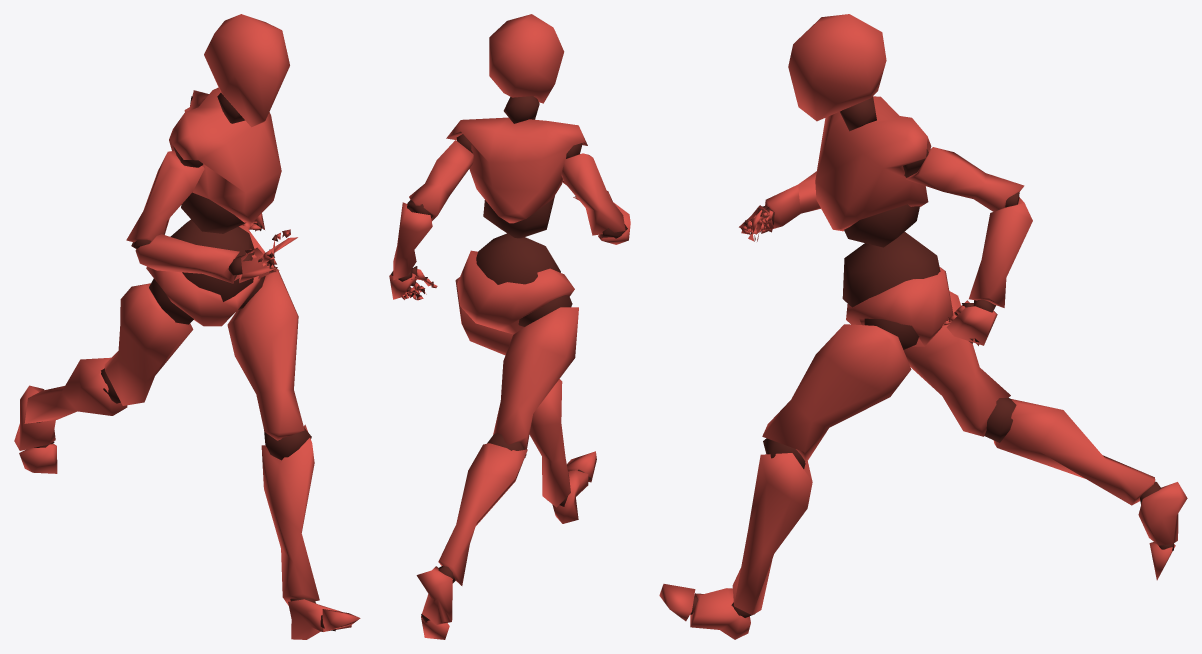
3 renders of one model, left to right at view 1: azimuth 30°, elevation 25°; view 2: azimuth 150°, elevation 25°; view 3: azimuth 270°, elevation 25°, orthographic. The views are drawn at different scales.
Parts seen in each view (by area): view 1: Beta_Surface.001; view 2: Beta_Surface.001; view 3: Beta_Surface.001.
Boxes of the visible parts, x1,y1,x2,y2 form: Beta_Surface.001: (14,14,360,639); Beta_Surface.001: (389,14,630,639); Beta_Surface.001: (659,14,1187,639).
Size of the model in its own units: 4.99 by 14.54 by 11.29.
